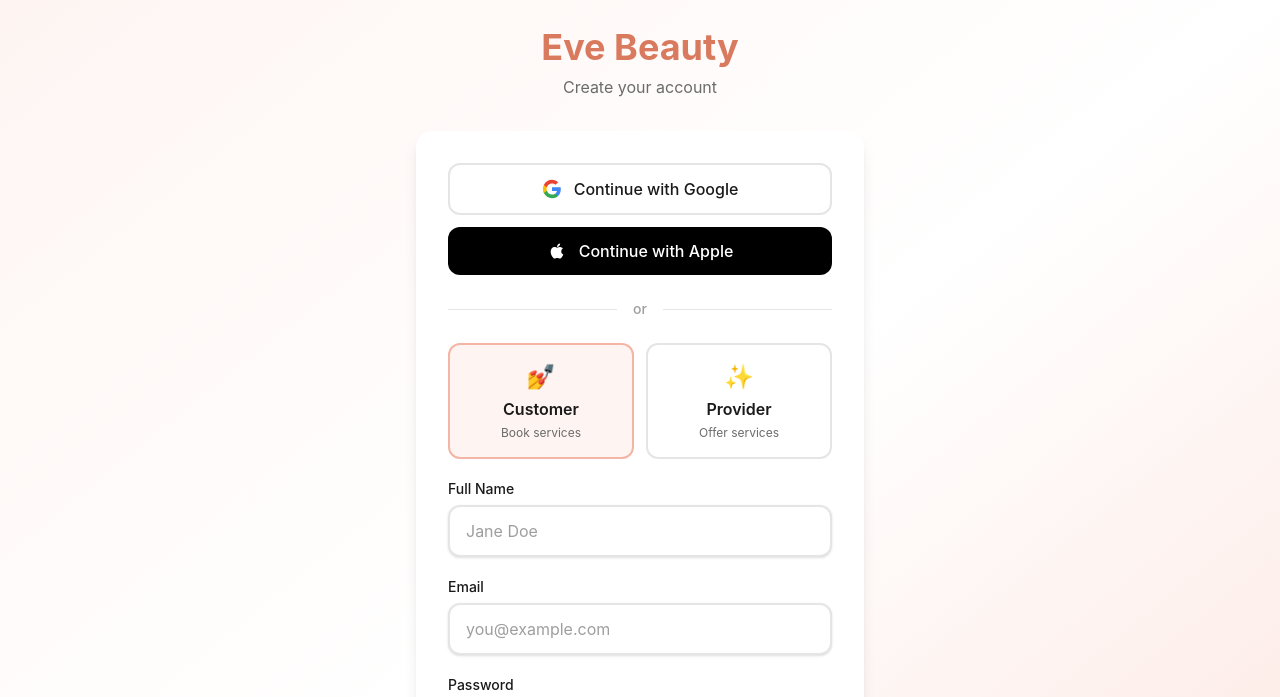
it: SignupPage › displays error message on failed signup
Type "Test User" into the field with placeholder "Jane Doe" at [640, 531], box [448,505,832,557]
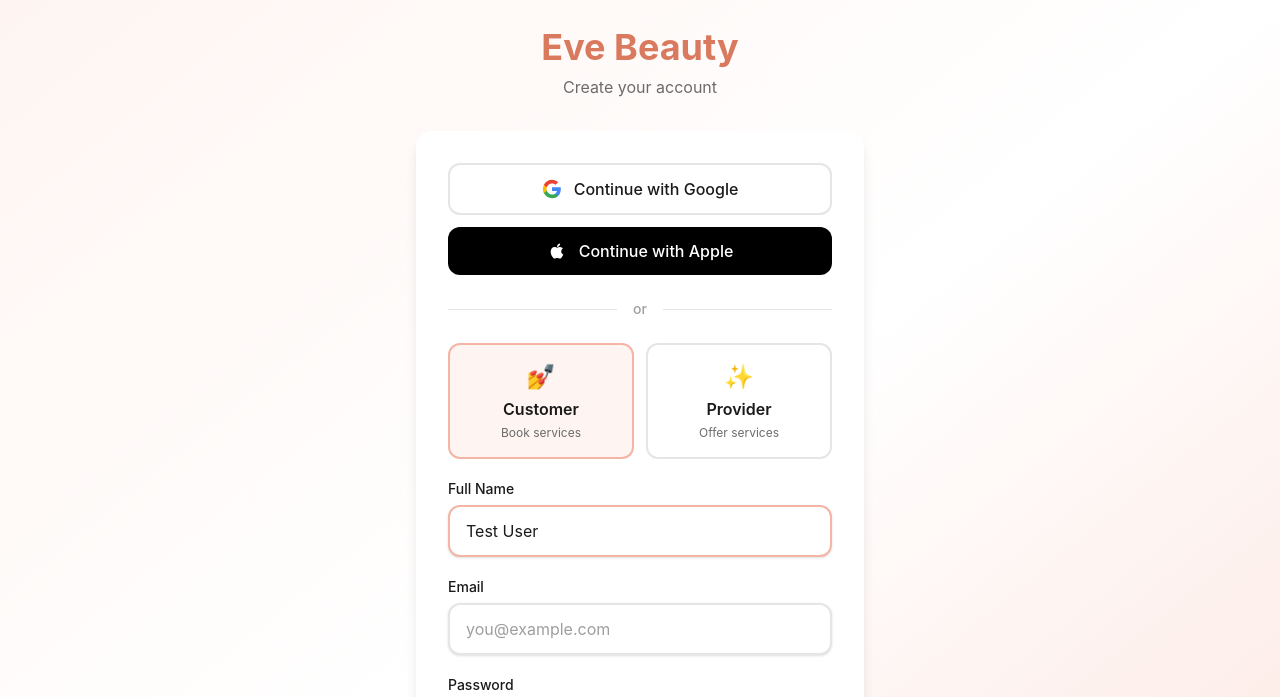
Type "existing@example.com" into the field with placeholder "you@example.com" at [640, 629], box [448,603,832,655]
(page scrolled)
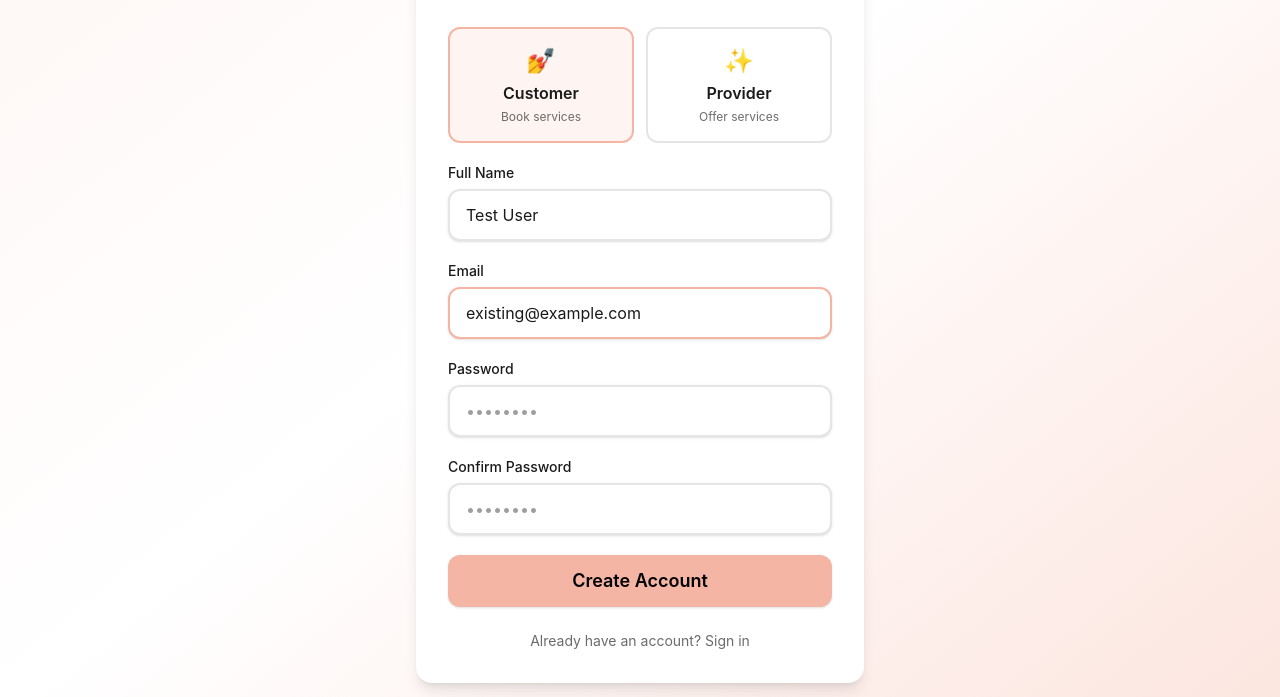
Type "password123" into the 1st password field with placeholder "••••••••" at [640, 411], box [448,385,832,437]
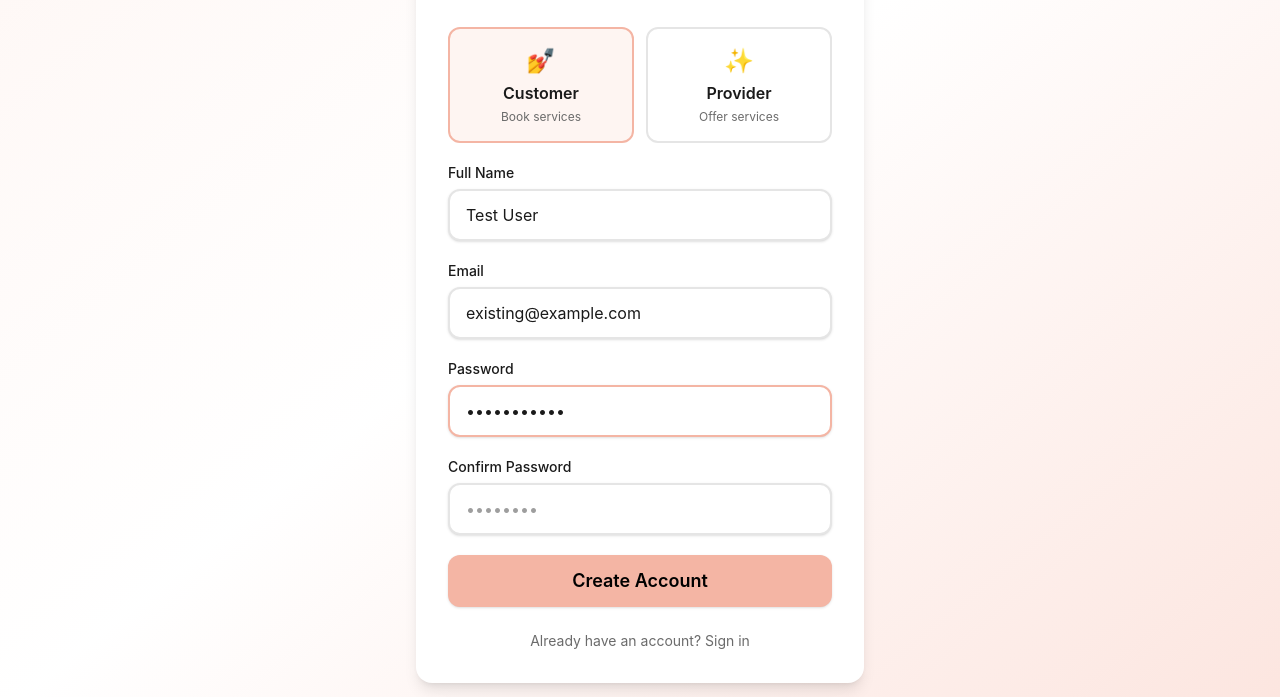
Type "password123" into the password field with placeholder "••••••••" at [640, 509], box [448,483,832,535]
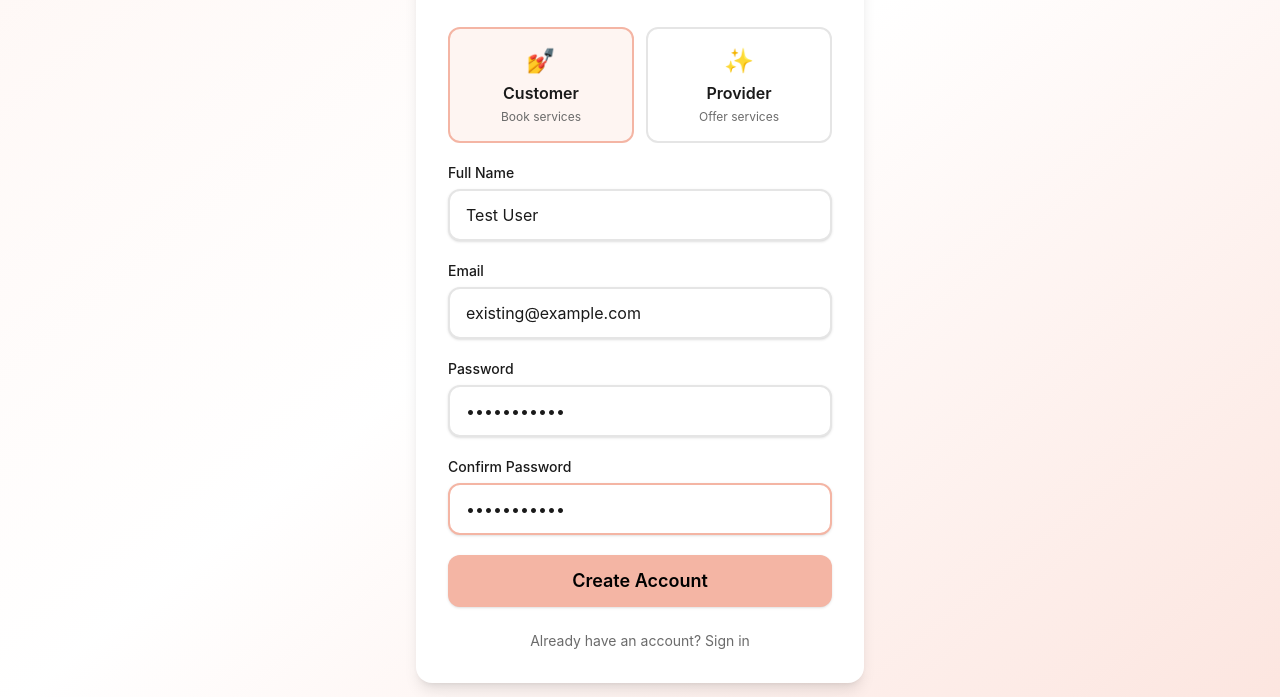
Click the button "Create Account" at [640, 581], box [448,555,832,607]
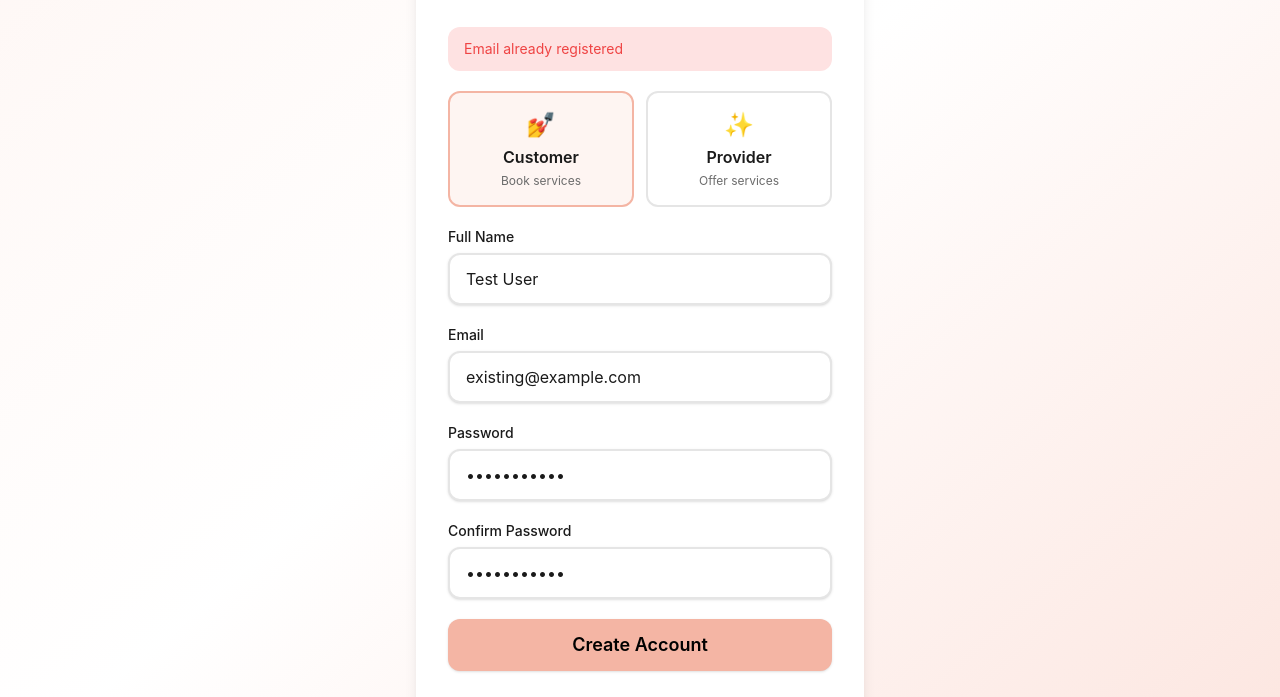
Now the text "Email already registered" is shown, box [448,27,832,71]
